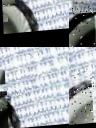ironball: (69, 74, 95, 126), (2, 0, 33, 32), (69, 9, 95, 47), (0, 98, 21, 127)
